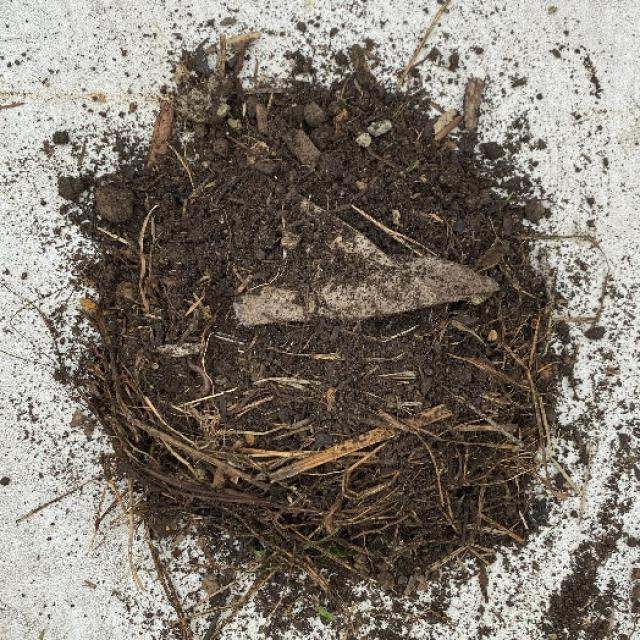organik: (121, 93, 544, 562)
